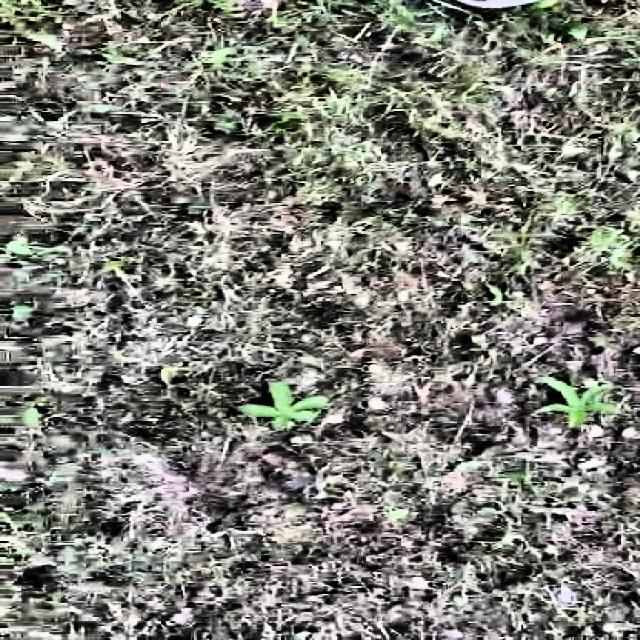Weeds: (238, 379, 330, 433), (534, 376, 618, 430)
